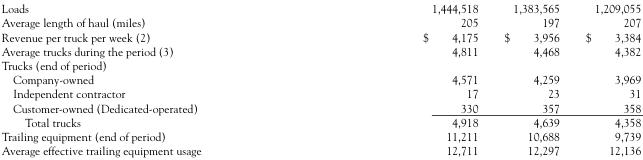table: (0, 0, 640, 156)
table column: (0, 0, 311, 156), (311, 0, 490, 156), (490, 0, 571, 156), (571, 0, 640, 156)
table column header: (0, 0, 640, 14)
table projected row header: (0, 57, 640, 71)
table row: (0, 14, 640, 29), (0, 85, 640, 100), (0, 0, 640, 14), (0, 29, 640, 43), (0, 43, 640, 57), (0, 57, 640, 71), (0, 71, 640, 85), (0, 100, 640, 114), (0, 114, 640, 128), (0, 128, 640, 142), (0, 142, 640, 156)
